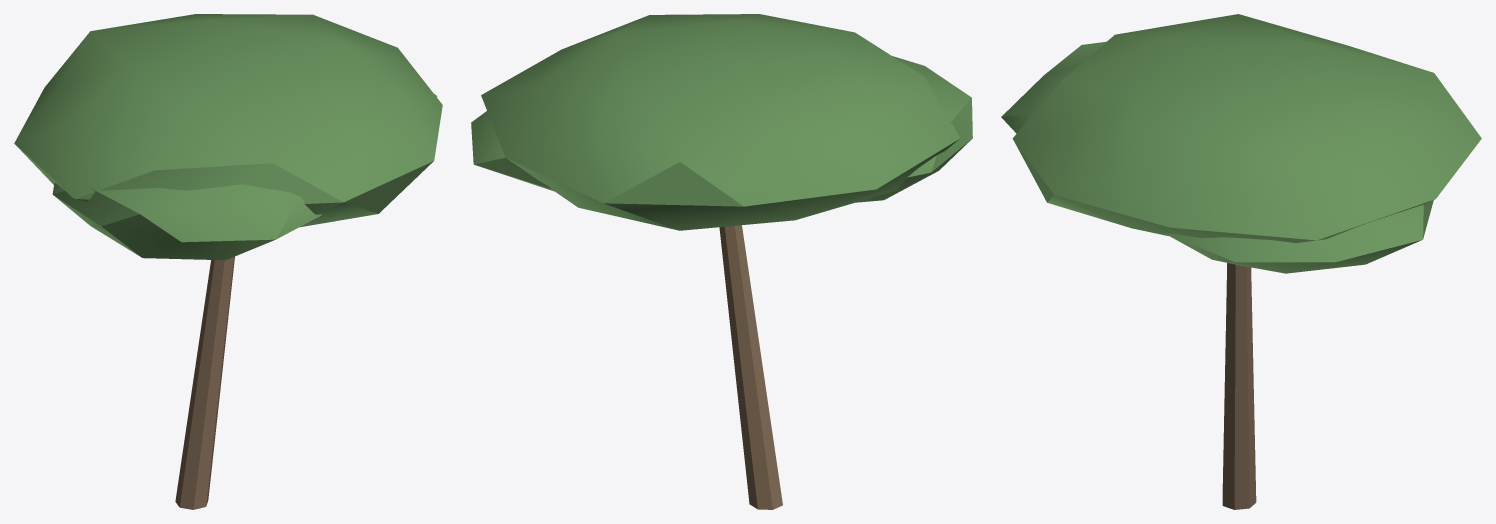
Rendered from tree_umbrella_pine.glb.
3 renders of one model, left to right at view 1: azimuth 30°, elevation 25°; view 2: azimuth 150°, elevation 25°; view 3: azimuth 270°, elevation 25°, orthographic. The views are drawn at different scales.
Visible parts, largest first — view 1: tree_umbrella_pine; view 2: tree_umbrella_pine; view 3: tree_umbrella_pine.
Part boxes in pixels (x1,y1,x2,y2): tree_umbrella_pine: [14, 14, 442, 509]; tree_umbrella_pine: [471, 14, 972, 509]; tree_umbrella_pine: [1001, 14, 1481, 509].
Size of the model in its own units: 8.13 by 8.4 by 8.12.
